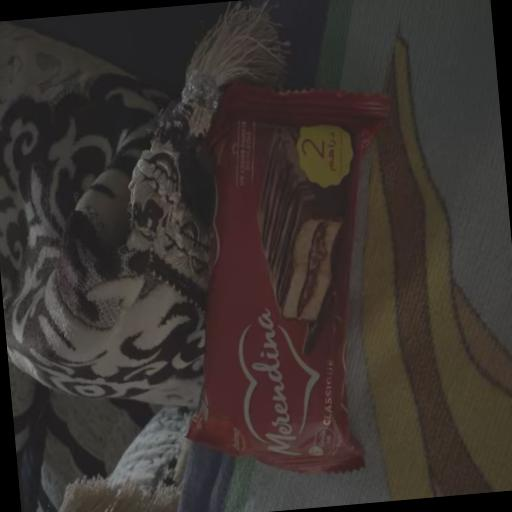merendina: (174, 76, 411, 506)
